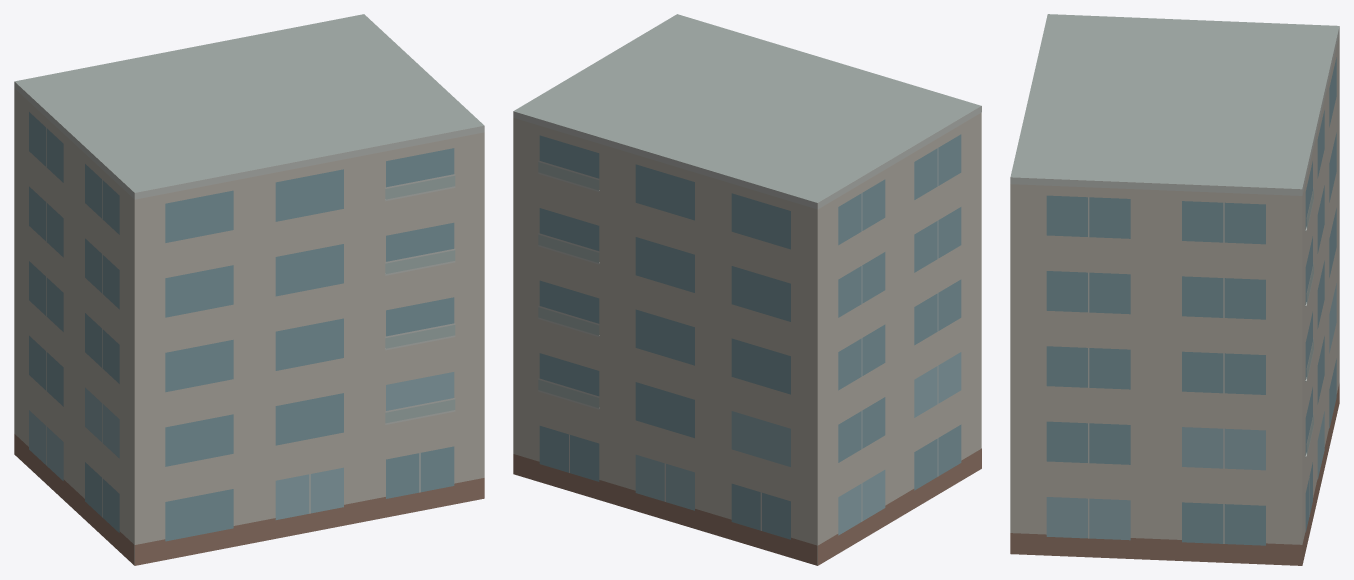
Rendered from survey-upis-32565668.glb.
3 renders of one model, left to right at view 1: azimuth 30°, elevation 25°; view 2: azimuth 150°, elevation 25°; view 3: azimuth 270°, elevation 25°, orthographic. The views are drawn at different scales.
Parts seen in each view (by area): view 1: survey-upis-32565668.tmp; view 2: survey-upis-32565668.tmp; view 3: survey-upis-32565668.tmp.
Boxes of the visible parts, bbox=[...] form: survey-upis-32565668.tmp: bbox=[14, 14, 484, 565]; survey-upis-32565668.tmp: bbox=[513, 14, 981, 565]; survey-upis-32565668.tmp: bbox=[1010, 14, 1339, 565].
Size of the model in its own units: 13.58 by 13.6 by 10.78.
